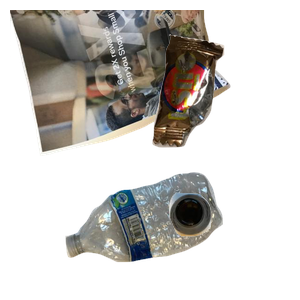glass: (166, 190, 300, 300)
paper: (10, 10, 233, 158)
plastic: (63, 170, 278, 300)
trash: (150, 32, 300, 172)
